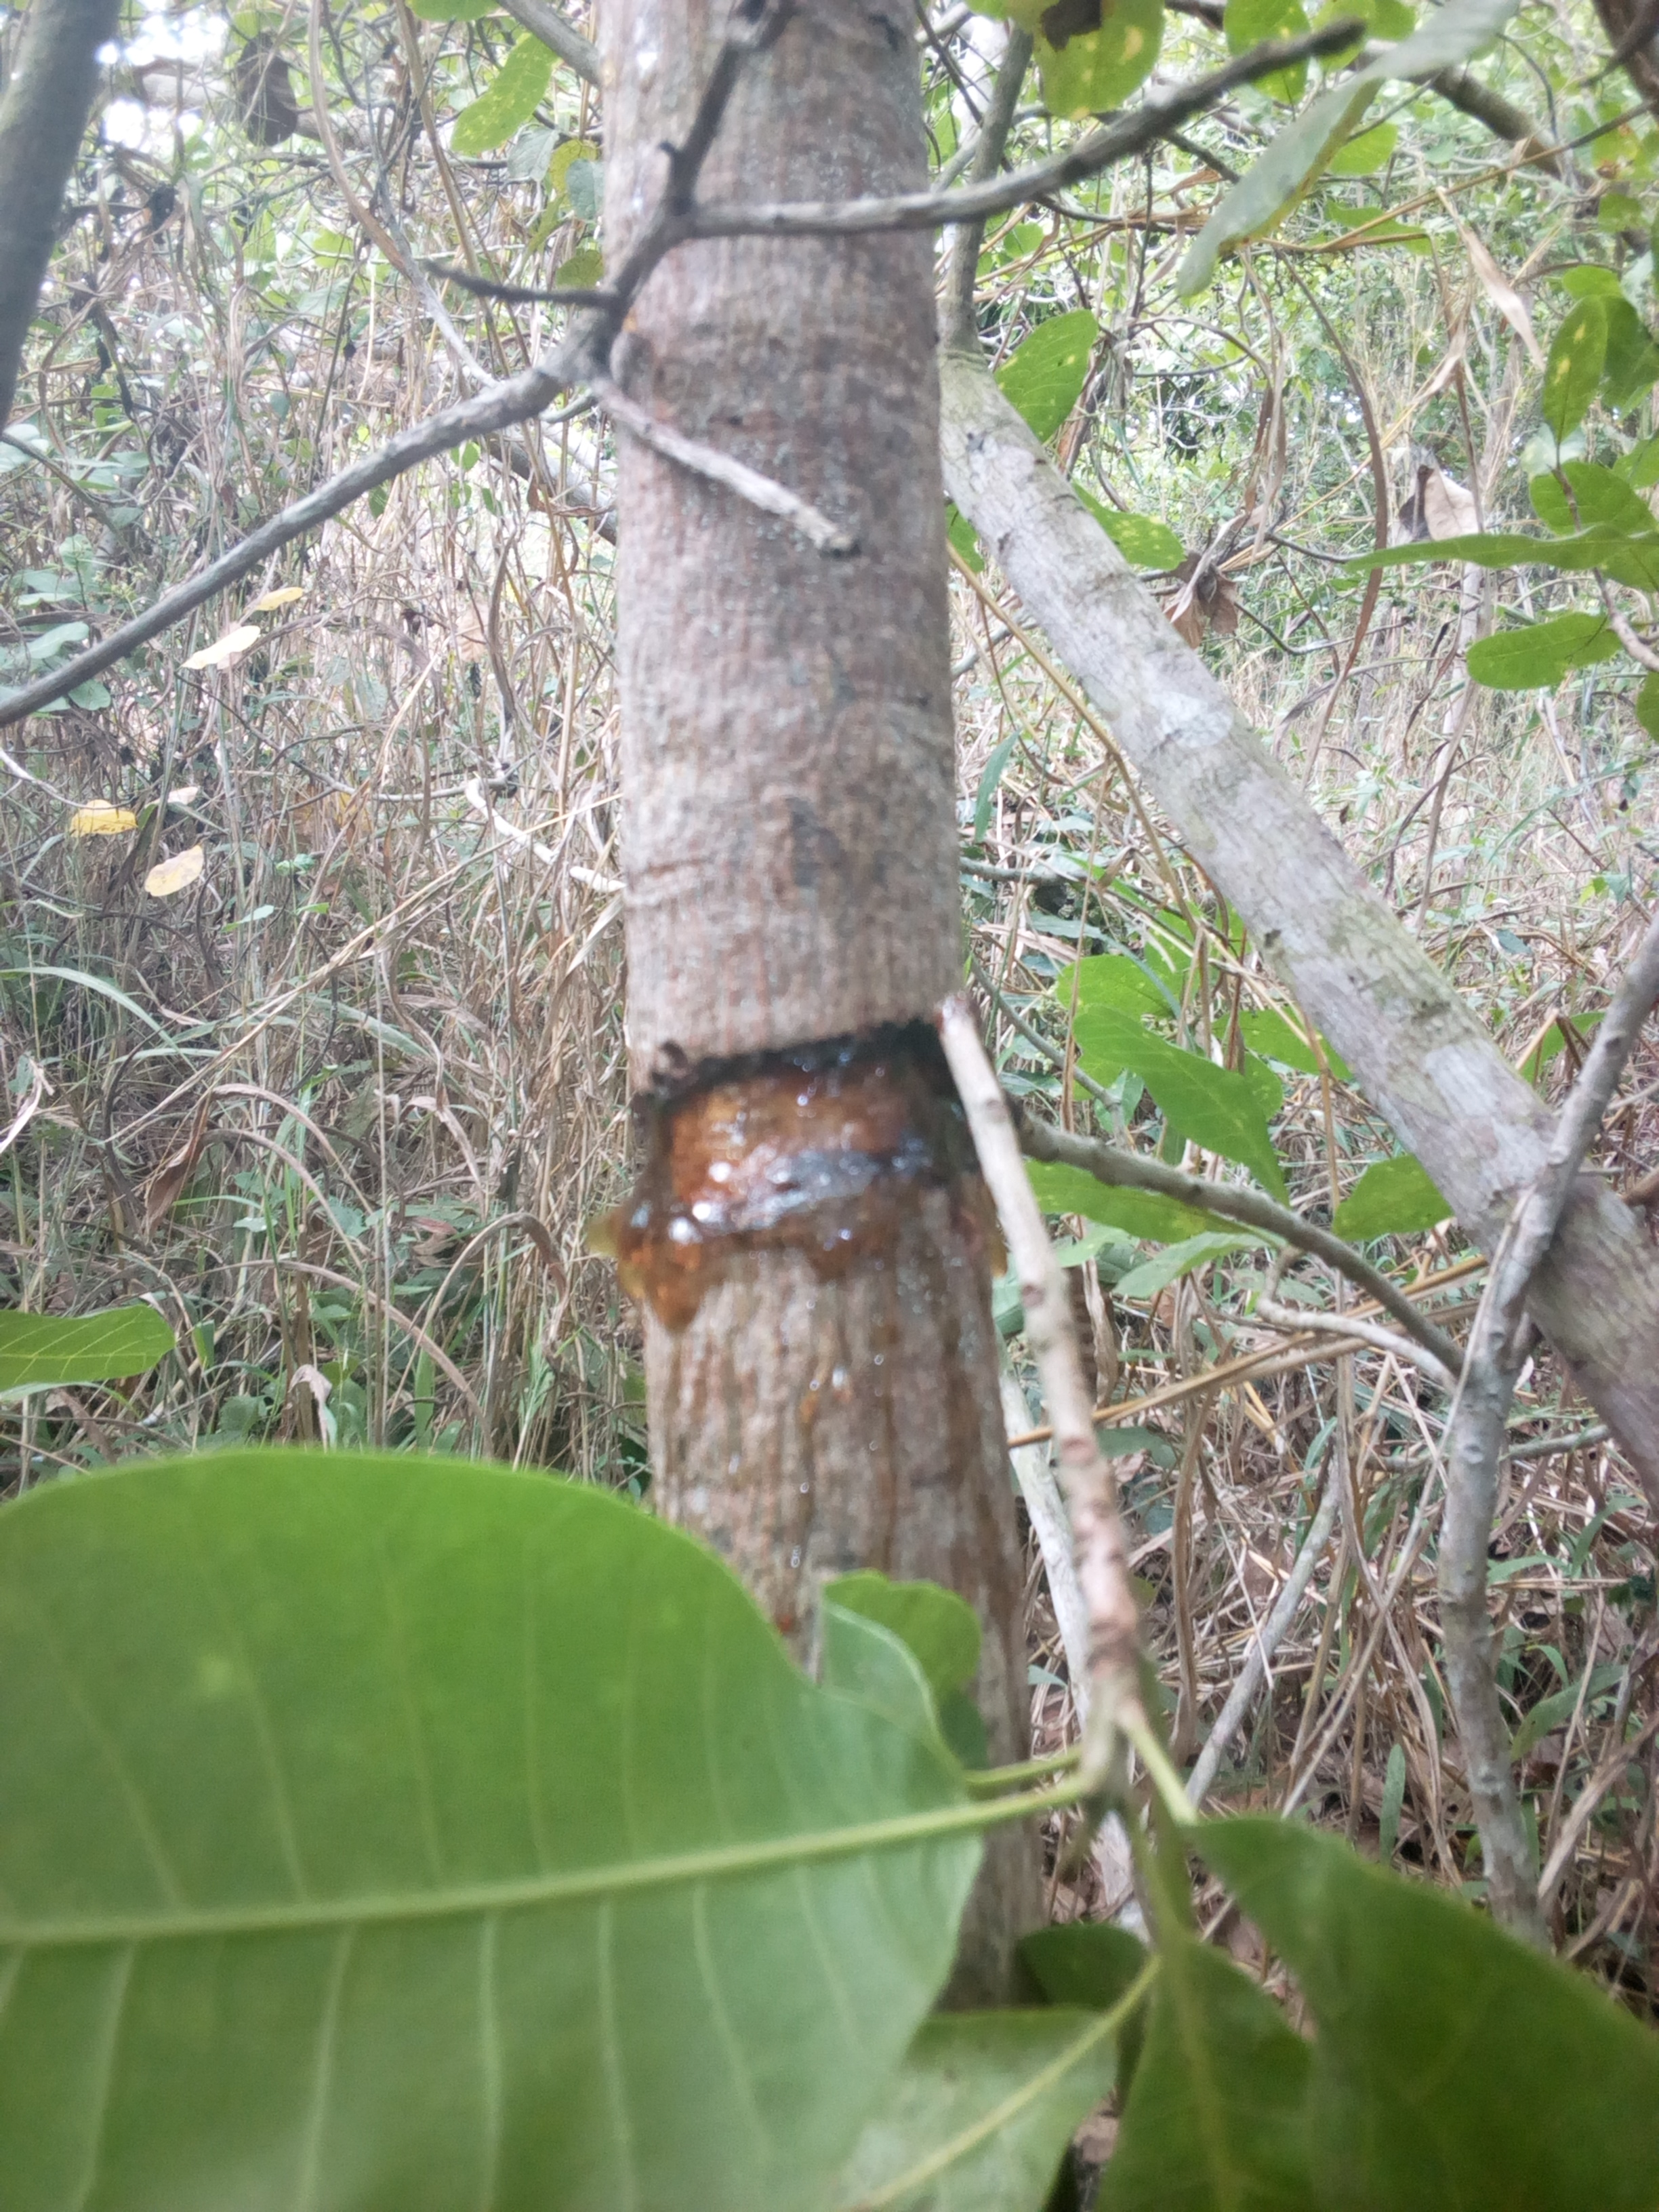Analepse trifasciata: (561, 991, 1042, 1285)
